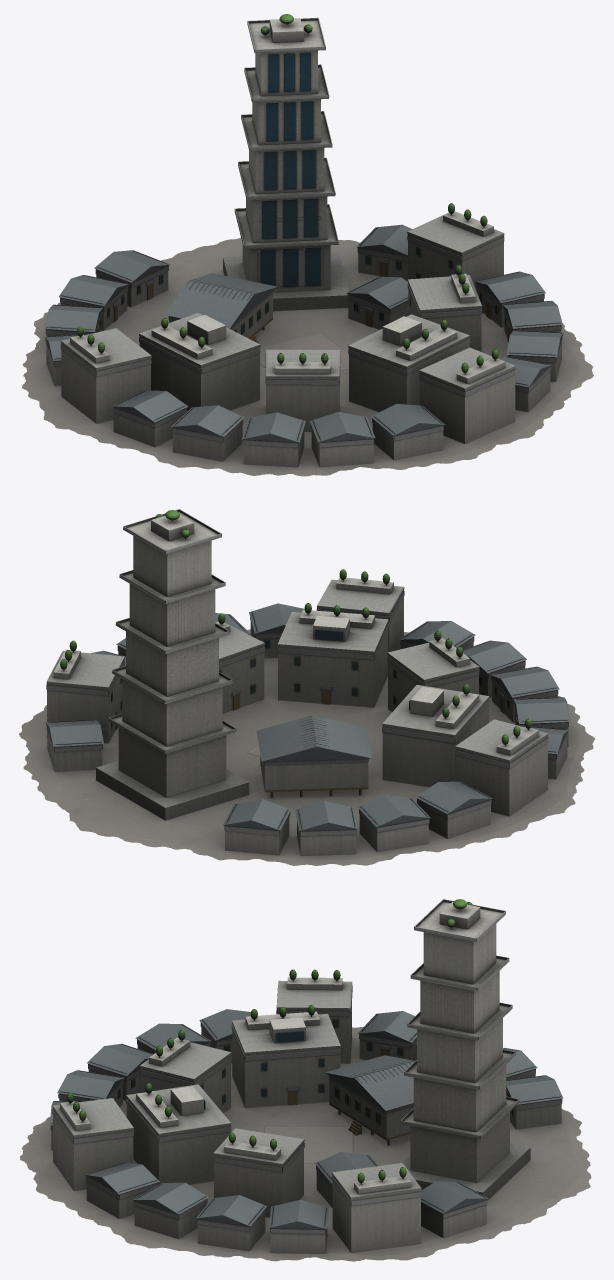
Rendered from modern-town-big-b-monsoon.glb.
3 views of the same model, one above another, from view 1: azimuth 30°, elevation 25°; view 2: azimuth 150°, elevation 25°; view 3: azimuth 270°, elevation 25° (orthographic).
Visible parts, largest first — view 1: LOD0; view 2: LOD0; view 3: LOD0.
Part boxes in pixels (left/top/right/bottom): LOD0: left=22, top=14, right=593, bottom=476; LOD0: left=19, top=509, right=595, bottom=865; LOD0: left=20, top=899, right=591, bottom=1261.
Size of what is drawn, in the model's own units: 7.95 by 4.16 by 8.01.
Materials: 3 (3 with a texture image).
